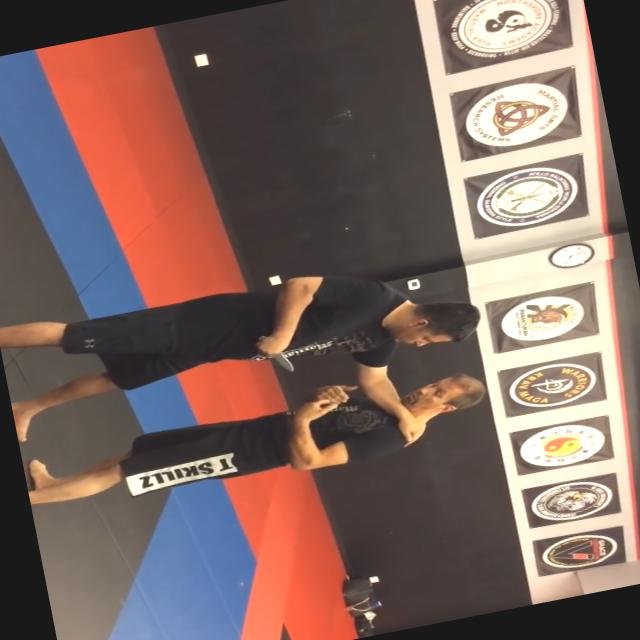knife: (250, 329, 300, 380)
